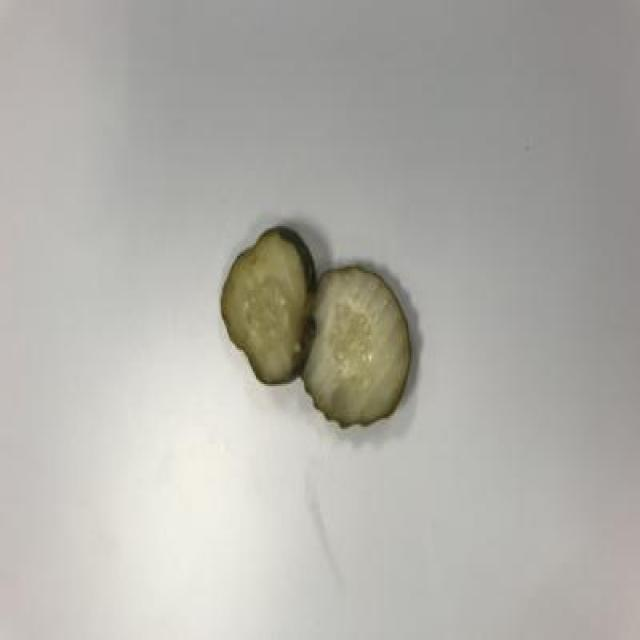compost: (202, 201, 436, 472)
